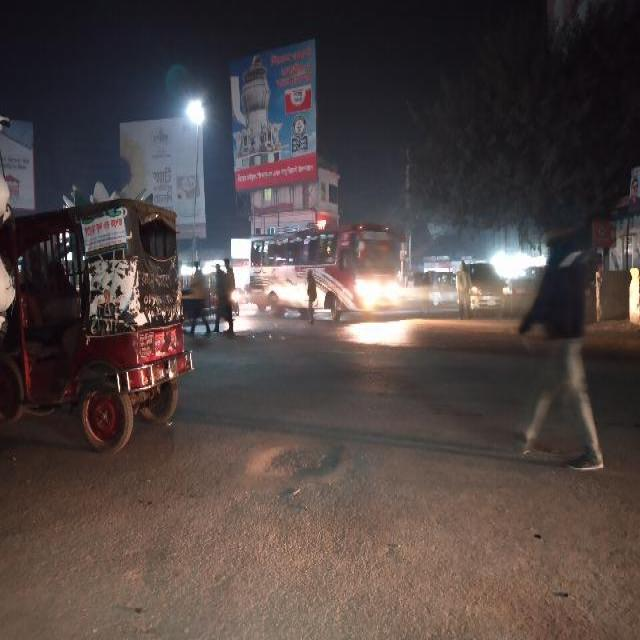auto rickshaw: (8, 207, 192, 460)
bus: (248, 231, 404, 329)
minivan: (462, 264, 514, 315)
